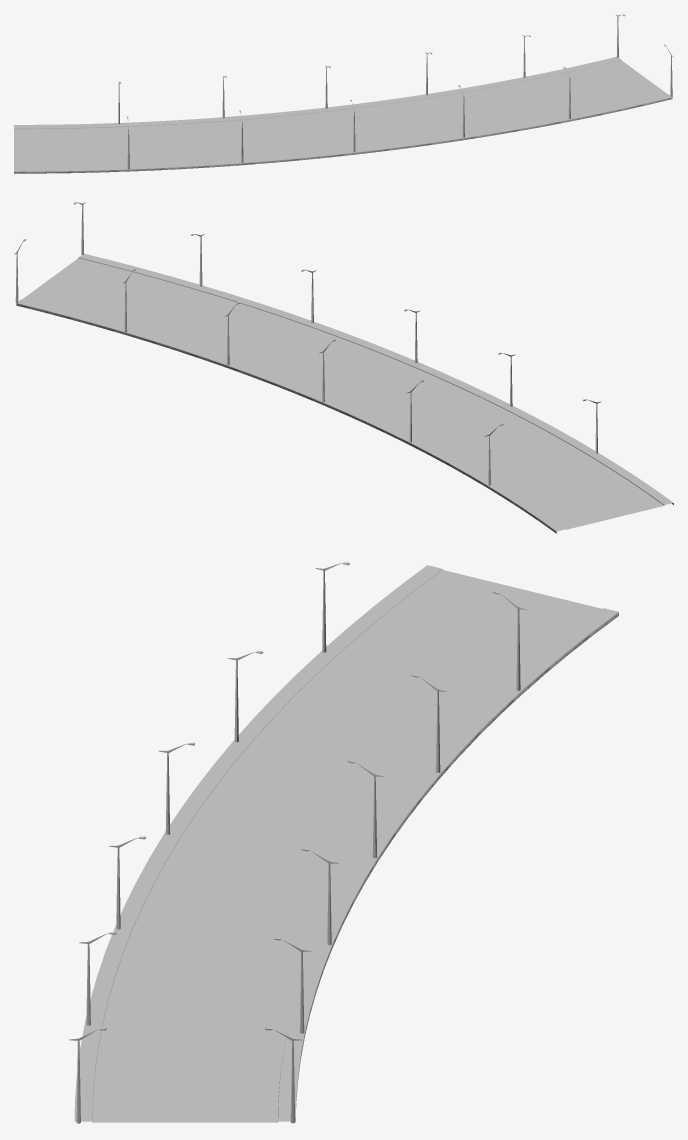
Rendered from Big_Road_30.FBX.
The picture shows the model from 3 angles, top to bottom: view 1: azimuth 30°, elevation 25°; view 2: azimuth 150°, elevation 25°; view 3: azimuth 270°, elevation 25°; orthographic projection. The views are drawn at different scales.
Parts seen in each view (by area): view 1: Big_Road_30, city_light005; view 2: Big_Road_30, city_light005; view 3: Big_Road_30, city_light005.
Boxes of the visible parts, left/top/right/bottom form: Big_Road_30: left=14, top=57, right=672, bottom=173; city_light005: left=118, top=14, right=673, bottom=169; Big_Road_30: left=16, top=253, right=673, bottom=533; city_light005: left=14, top=202, right=601, bottom=485; Big_Road_30: left=74, top=565, right=618, bottom=1122; city_light005: left=69, top=562, right=527, bottom=1123.
Size of the model in its own units: 13522 by 1104 by 5638.
